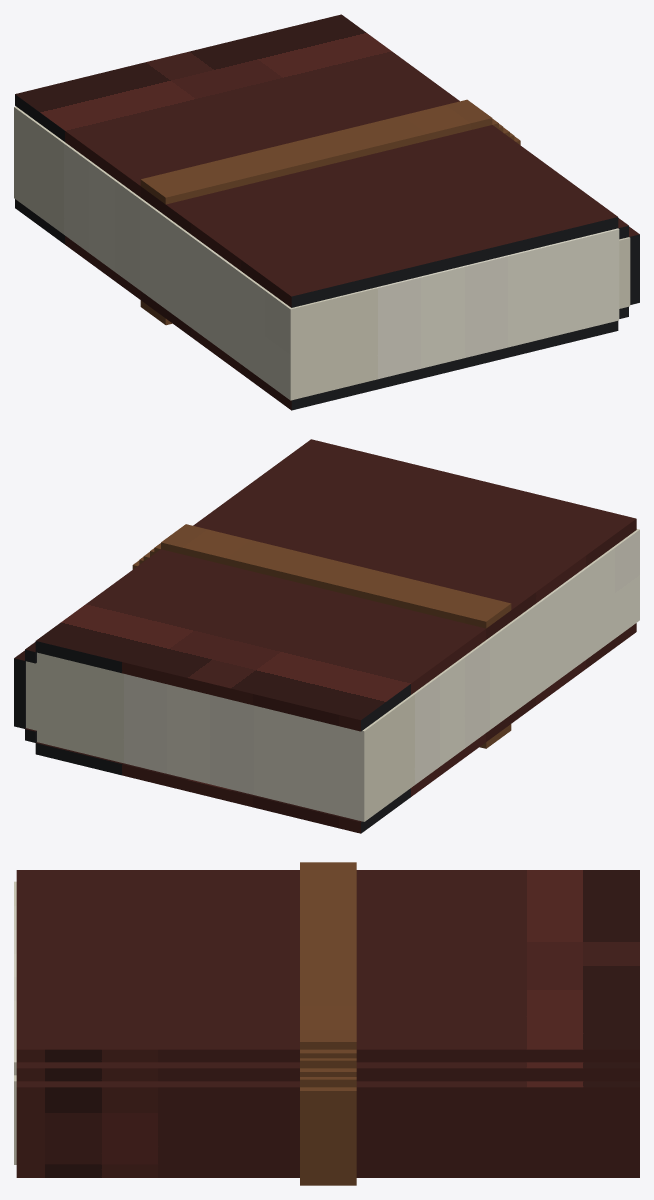
The model's file is low_poly_book.gltf.
The picture shows the model from 3 angles, top to bottom: view 1: azimuth 30°, elevation 25°; view 2: azimuth 150°, elevation 25°; view 3: azimuth 270°, elevation 25°; orthographic projection. The views are drawn at different scales.
Parts seen in each view (by area): view 1: cube (×6); view 2: cube (×6); view 3: cube (×12).
Boxes of the visible parts, left/top/right/bottom form: cube (×6): left=14, top=14, right=639, bottom=410; cube (×6): left=14, top=439, right=639, bottom=833; cube (×12): left=14, top=862, right=639, bottom=1177.
Size of the model in its own units: 0.5125 by 0.175 by 0.6906.
Materials: 3 (3 with a texture image).
